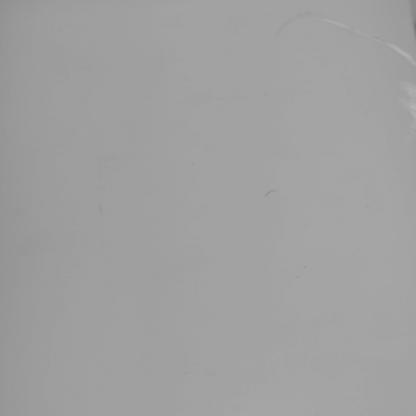sunshang: (299, 15, 415, 66)
